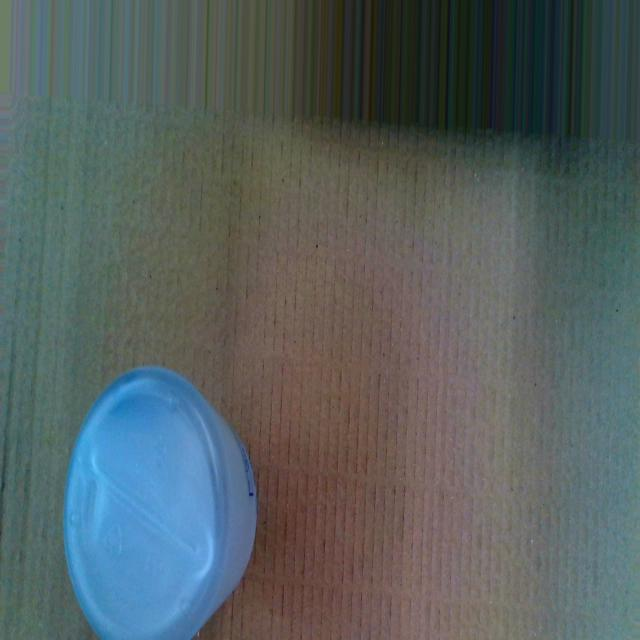bottle: (62, 357, 258, 640)
